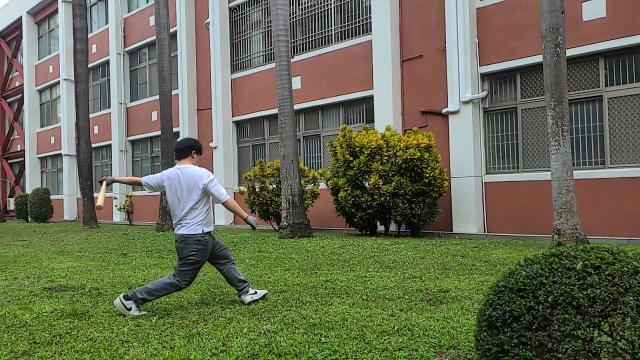bat: (92, 179, 108, 210)
